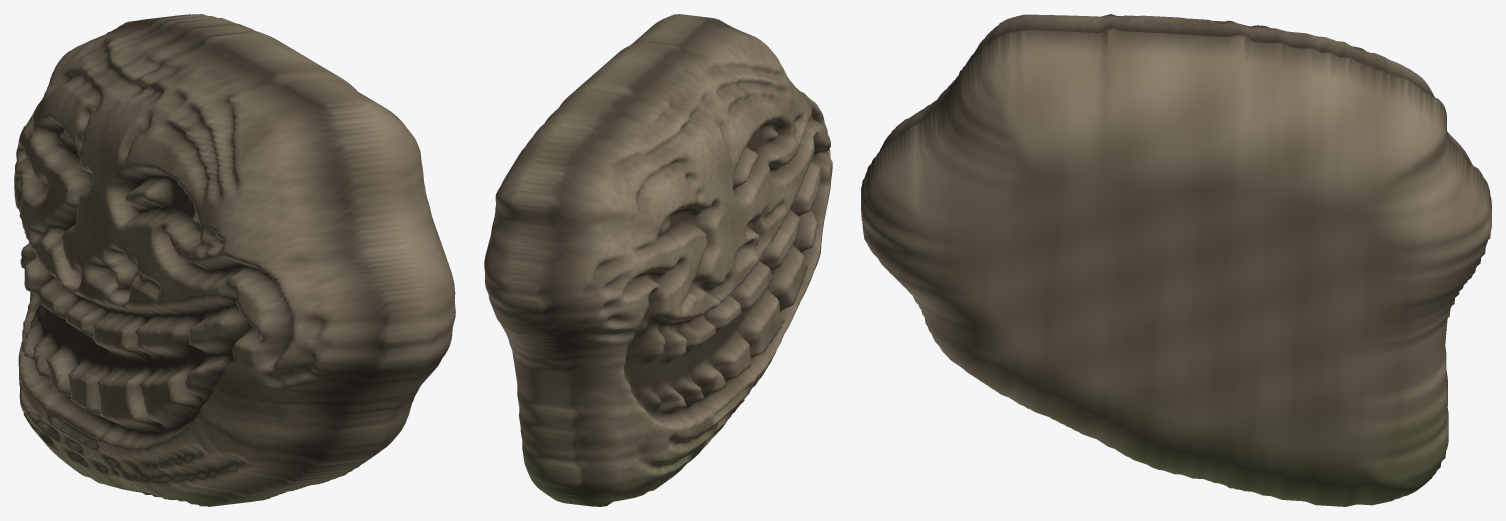
File: gl-trollhead.glb
The picture shows the model from 3 angles, left to right: view 1: azimuth 30°, elevation 25°; view 2: azimuth 150°, elevation 25°; view 3: azimuth 270°, elevation 25°; orthographic projection. The views are drawn at different scales.
Visible parts, largest first — view 1: gl-trollhead; view 2: gl-trollhead; view 3: gl-trollhead.
Part boxes in pixels (x1,y1,x2,y2): gl-trollhead: (14,14,455,506); gl-trollhead: (484,14,832,506); gl-trollhead: (861,14,1491,506).
Bounding box in the file's own units: 1.14 × 2.18 × 2.59.
